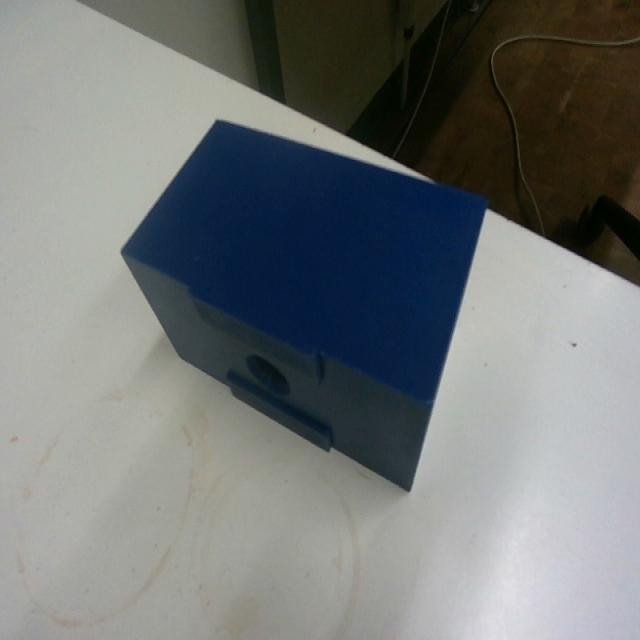Blue Cuboid: (118, 113, 489, 492)
